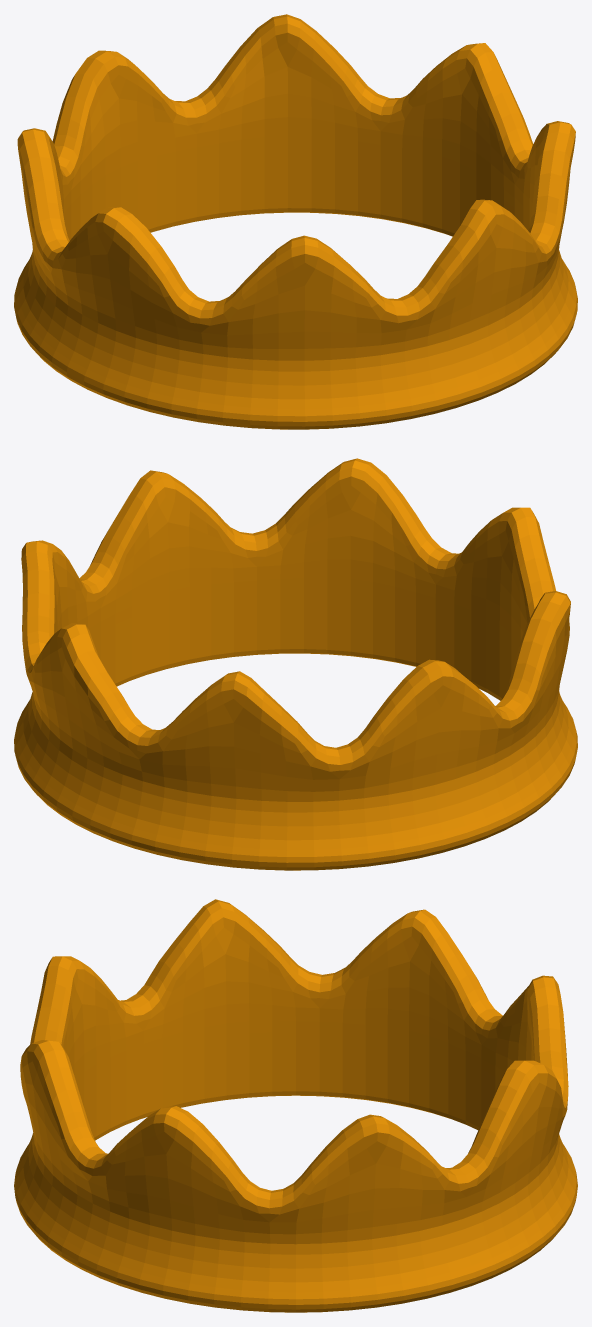
Rendered from crown.fbx.
3 renders of one model, top to bottom at view 1: azimuth 30°, elevation 25°; view 2: azimuth 150°, elevation 25°; view 3: azimuth 270°, elevation 25°, orthographic.
Visible parts, largest first — view 1: crown; view 2: crown; view 3: crown.
Boxes of the visible parts, x1,y1,x2,y2 form: crown: (14, 14, 577, 429); crown: (14, 458, 577, 870); crown: (14, 899, 577, 1312).
Bounding box in the file's own units: 205 × 76.89 × 205.
